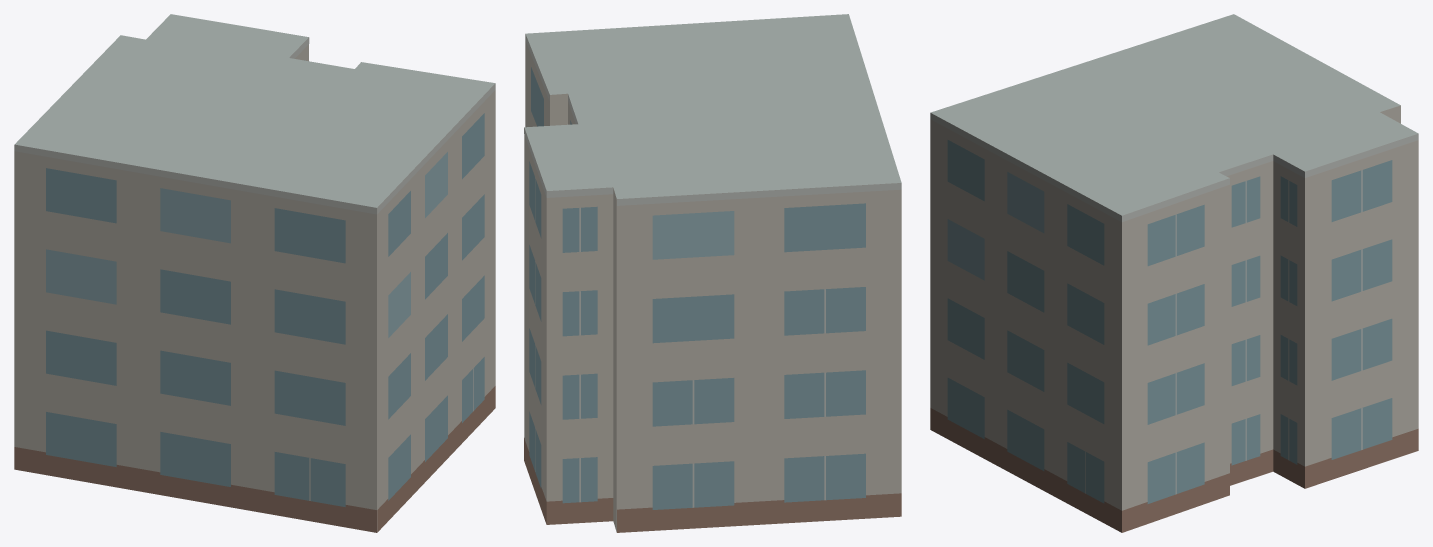
The model's file is survey-upis-32723302.glb.
The picture shows the model from 3 angles, left to right: view 1: azimuth 30°, elevation 25°; view 2: azimuth 150°, elevation 25°; view 3: azimuth 270°, elevation 25°; orthographic projection. The views are drawn at different scales.
Parts seen in each view (by area): view 1: survey-upis-32723302.tmp; view 2: survey-upis-32723302.tmp; view 3: survey-upis-32723302.tmp.
Boxes of the visible parts, x1=… form: survey-upis-32723302.tmp: x1=14, y1=14, x2=495, y2=532; survey-upis-32723302.tmp: x1=524, y1=14, x2=901, y2=532; survey-upis-32723302.tmp: x1=930, y1=14, x2=1418, y2=532.
Bounding box in the file's own units: 16.25 × 11.9 × 16.62.
